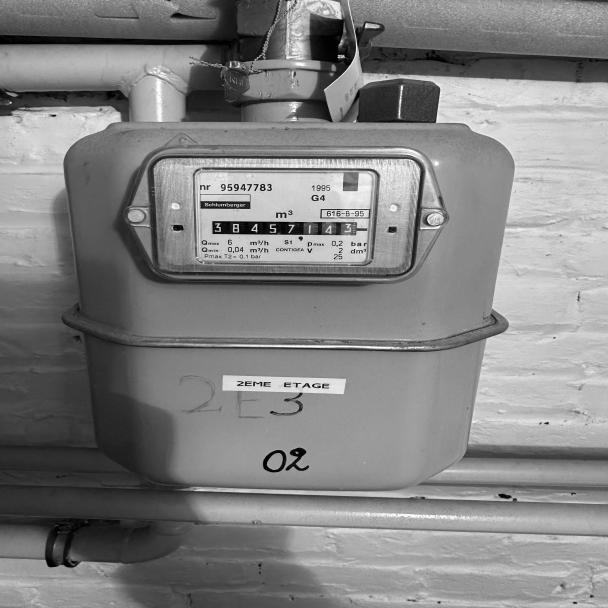1: (303, 222, 319, 237)
3: (339, 218, 356, 236), (212, 218, 228, 236)
4: (321, 220, 335, 238), (247, 221, 262, 236)
5: (262, 220, 278, 238)
7: (283, 220, 299, 238)
8: (228, 221, 246, 236)
cm: (304, 221, 362, 238)
counter: (208, 218, 302, 239)
